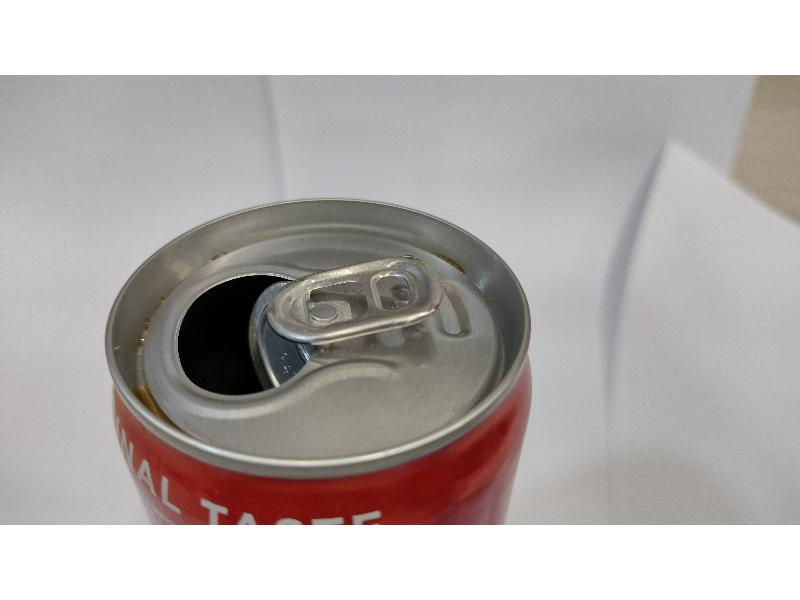can: (106, 195, 534, 524)
